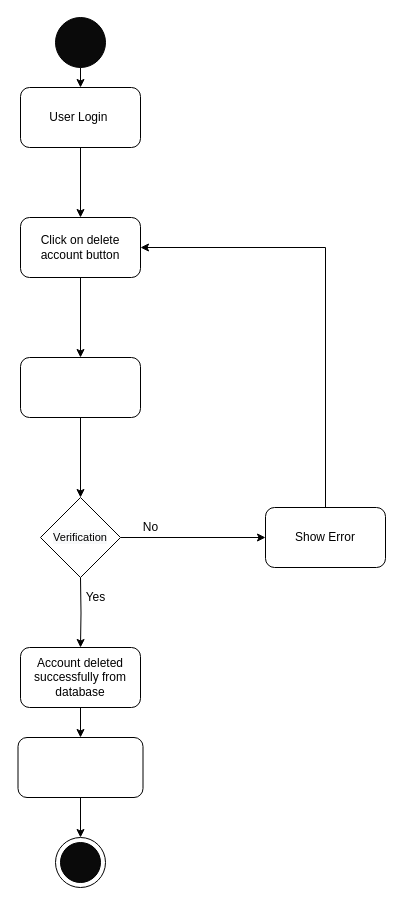
Image size: 403x905. Some labels were removed from this diagram. The box of each missing label's shape, as (x1, y1, x2, y2) in pixels:
Approve Operation: (20, 356, 140, 418)
Message shown in a pop up "Deleted Account Successfully": (17, 736, 143, 798)
